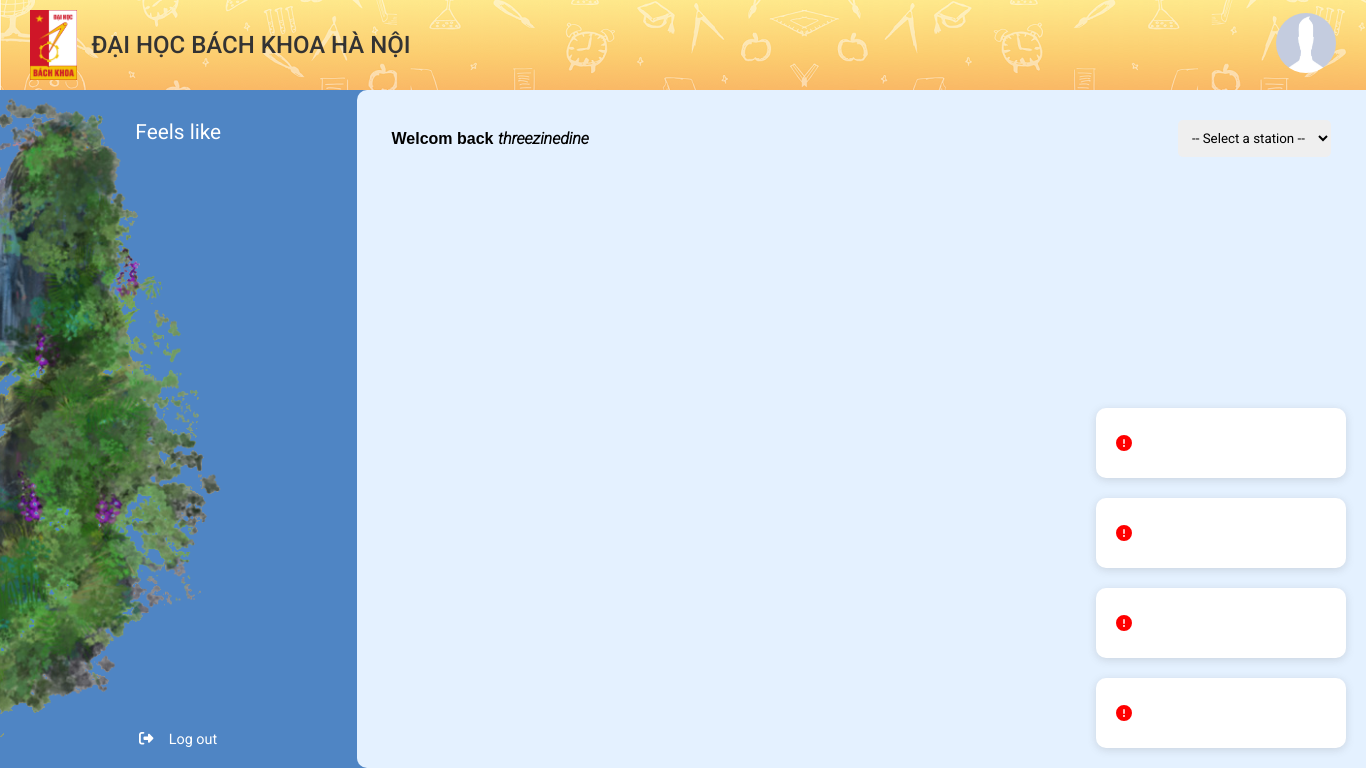
Test case: HeaderWrapper testing › should not have the logout or user until click in avatar.
Expected: the text "Logout" is not shown
Expected: the text "Admin" is not shown
Click the element with test id "avatar" at (1306,43), box top-left (1276, 13), bottom-right (1336, 73)
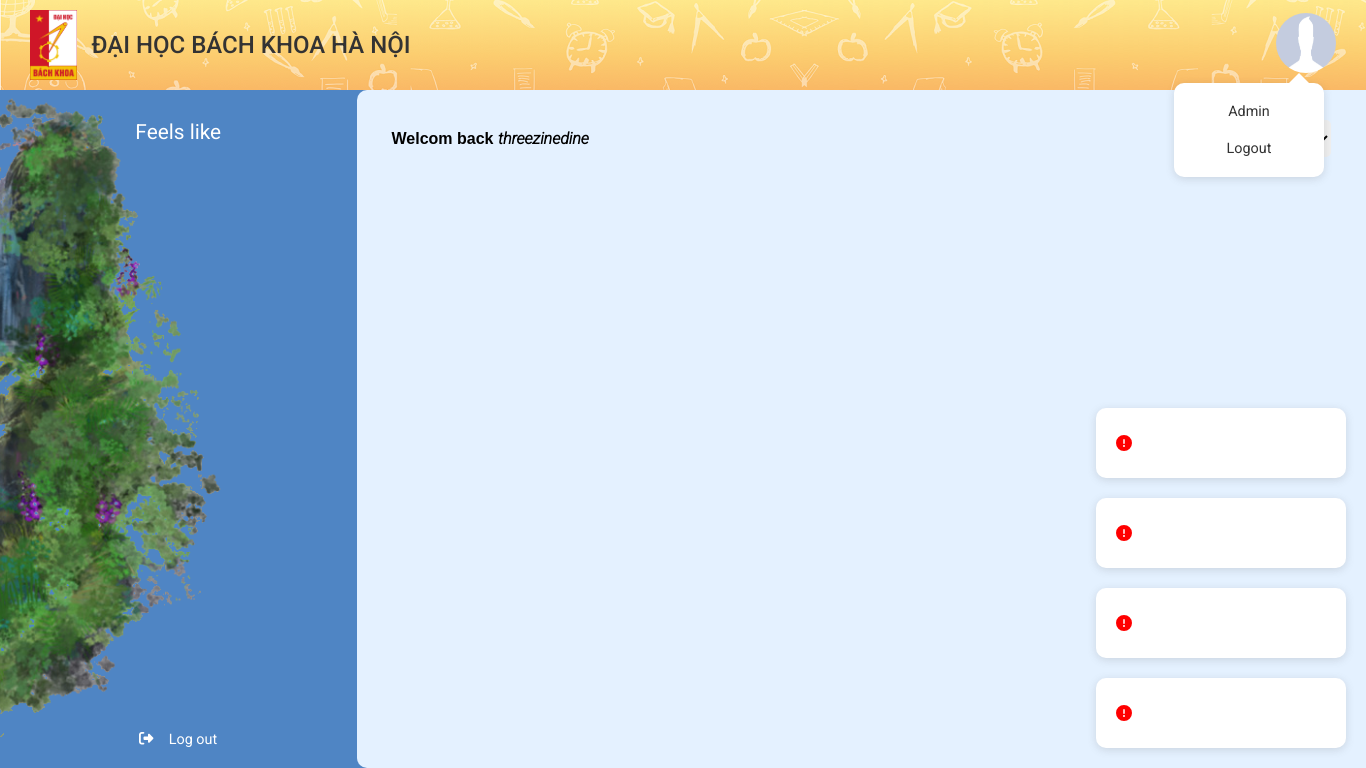
Expected: the text "Logout" is shown, top-left (1226, 140), bottom-right (1271, 157)
Expected: the text "Admin" is shown, top-left (1228, 103), bottom-right (1270, 120)
